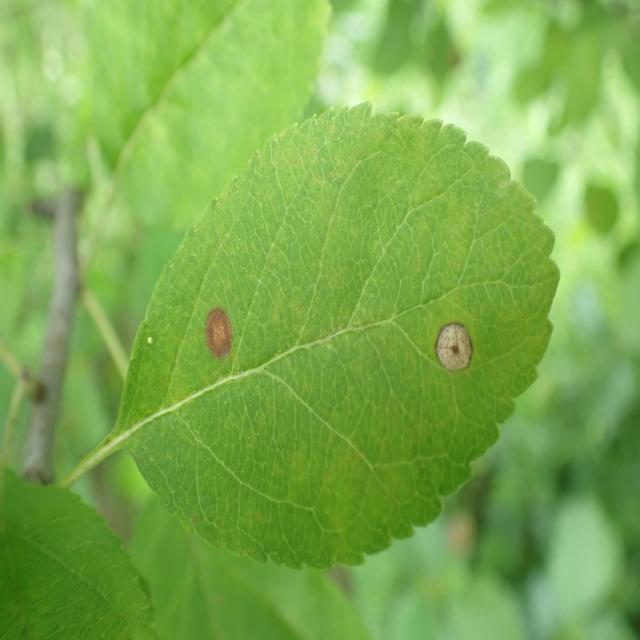Black Rot: (186, 292, 242, 383), (425, 312, 481, 384)
